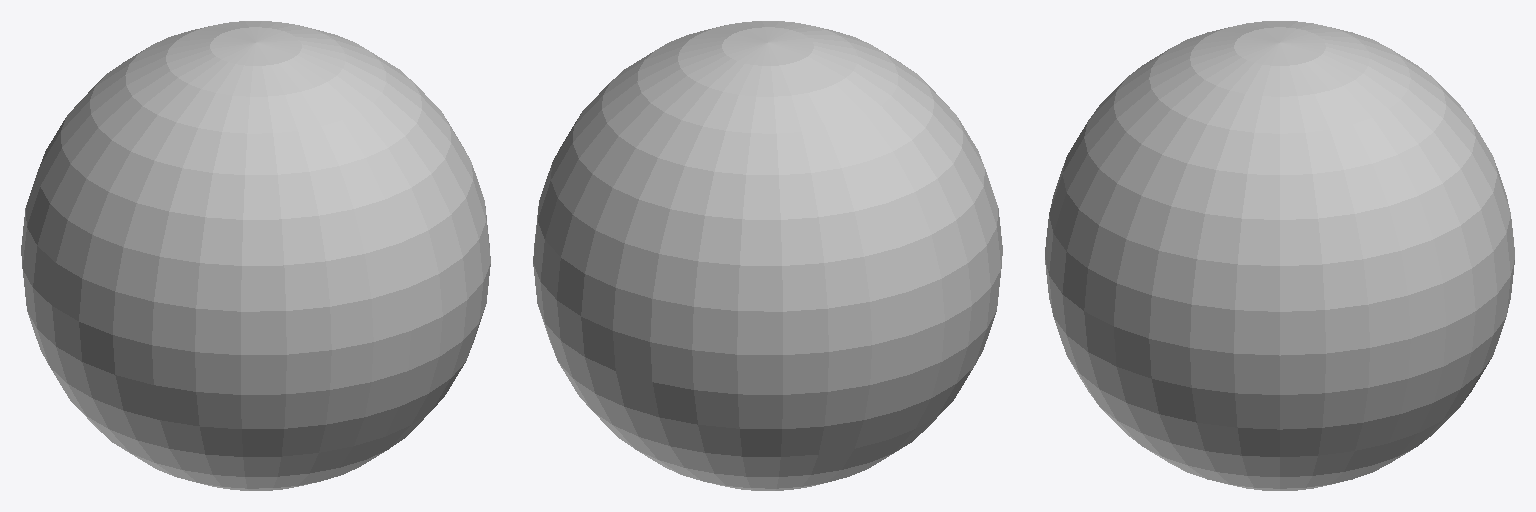
Rendered from globetv1.obj.
3 views of the same model, side by side, from view 1: azimuth 30°, elevation 25°; view 2: azimuth 150°, elevation 25°; view 3: azimuth 270°, elevation 25° (orthographic).
Visible parts, largest first — view 1: sphere-1_Sphere.009; view 2: sphere-1_Sphere.009; view 3: sphere-1_Sphere.009.
Boxes of the visible parts, x1=… form: sphere-1_Sphere.009: x1=21, y1=21, x2=490, y2=490; sphere-1_Sphere.009: x1=533, y1=21, x2=1002, y2=490; sphere-1_Sphere.009: x1=1045, y1=21, x2=1514, y2=490.
Bounding box in the file's own units: 3 × 3 × 3.